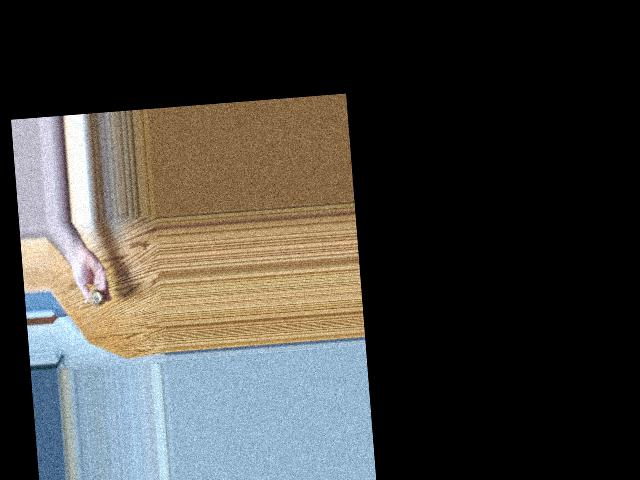sweet_potato: (85, 288, 103, 311)
